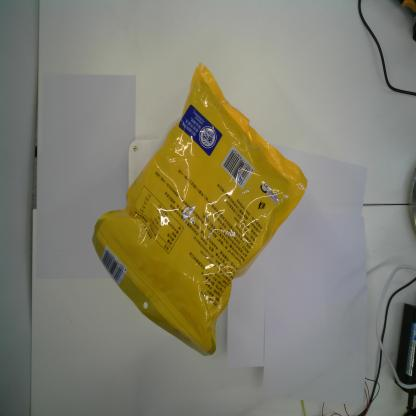Dried Food: (91, 61, 309, 357)
